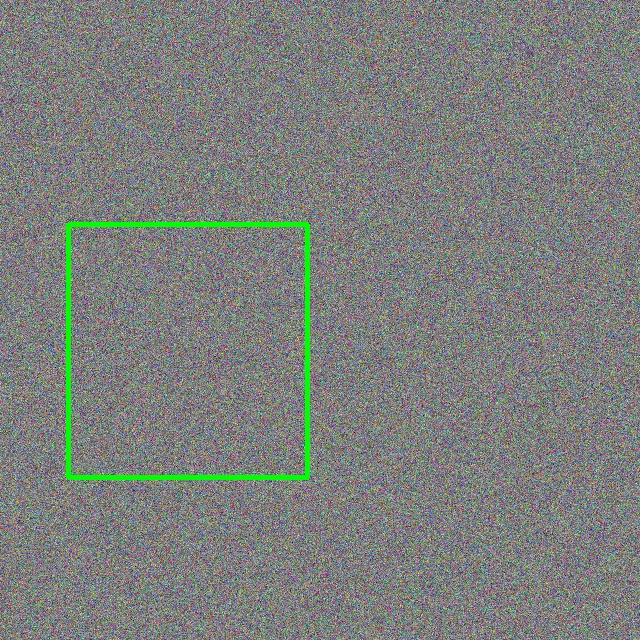base: (68, 224, 307, 477)
